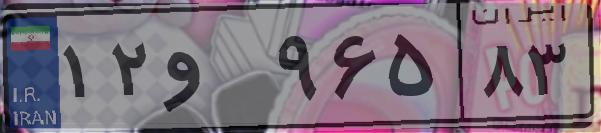1: (57, 26, 110, 100)
2: (110, 28, 158, 98)
3: (525, 38, 570, 115)
5: (385, 28, 445, 110)
6: (330, 28, 385, 110)
8: (475, 38, 525, 113)
9: (270, 28, 330, 110)
و: (158, 20, 270, 120)
